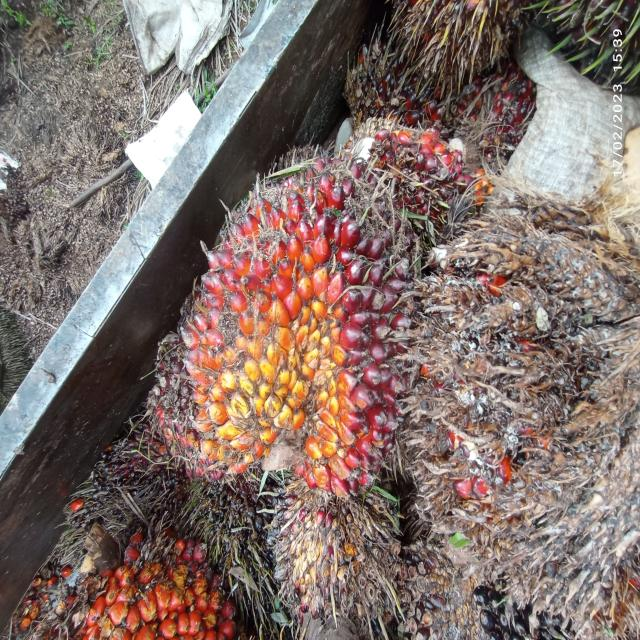fraksi 3: (126, 107, 432, 552)
